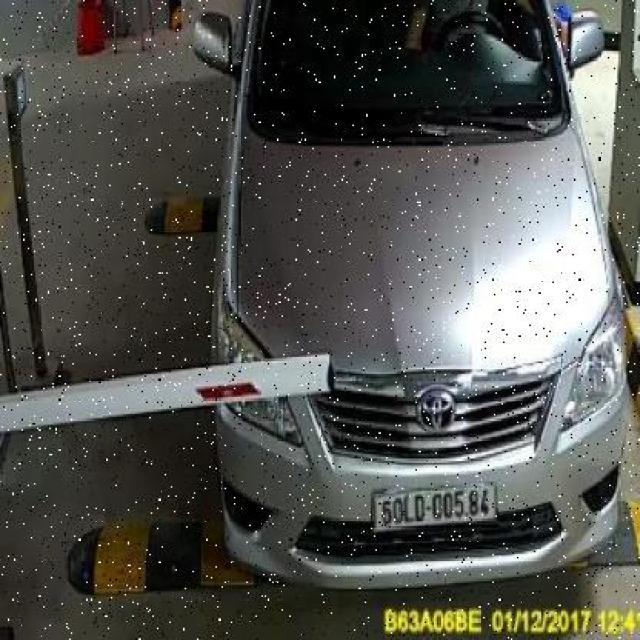number_plate: (371, 488, 498, 528)
